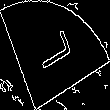L_SW: (32, 30, 78, 80)
